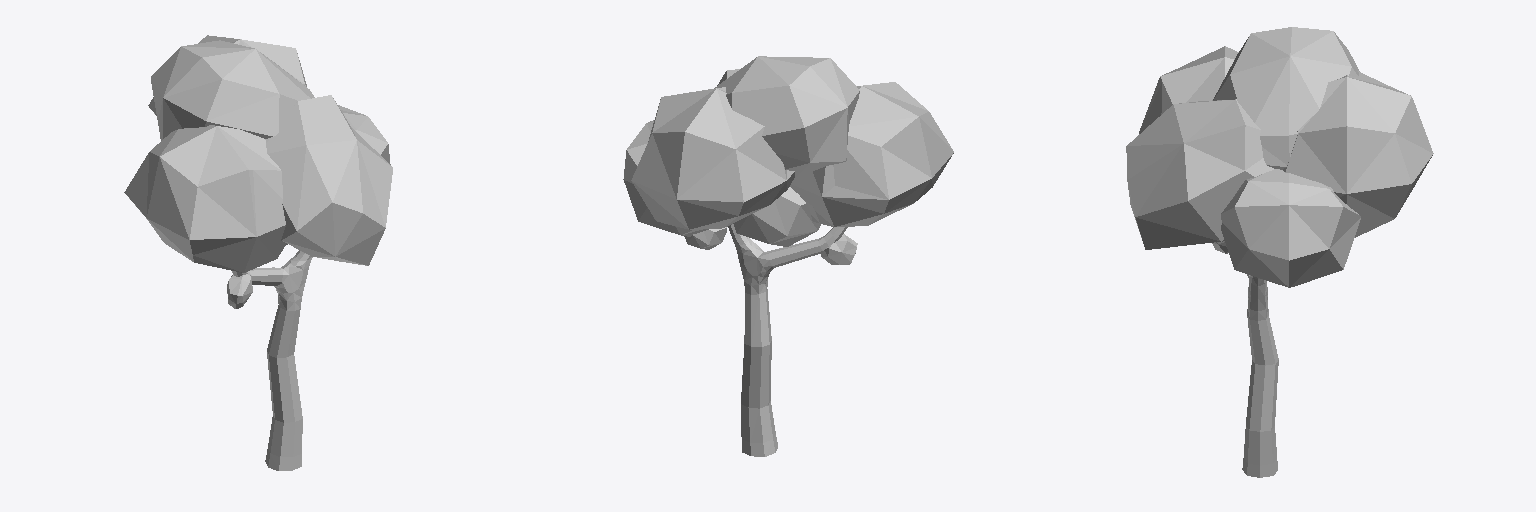
The model's file is tree.obj.
The picture shows the model from 3 angles: view 1: azimuth 30°, elevation 25°; view 2: azimuth 150°, elevation 25°; view 3: azimuth 270°, elevation 25°; orthographic projection.
Visible parts, largest first — view 1: Cube, Cube.005, Cube.008, Vert, Cube.001, Cube.004, Cube.003; view 2: Cube.004, Cube, Cube.008, Vert, Cube.001, Cube.007, Cube.003, Cube.006; view 3: Cube.005, Cube.004, Cube, Cube.008, Vert, Cube.001.
Part boxes in pixels (x1,y1,x2,y2): Cube: (124,105,390,272); Cube.005: (265,95,392,265); Cube.008: (151,40,314,140); Vert: (232,250,312,470); Cube.001: (129,126,286,272); Cube.004: (148,35,306,115); Cube.003: (227,274,252,308); Cube.004: (631,87,794,229); Cube: (623,82,953,236); Cube.008: (714,56,859,177); Vert: (728,224,847,456); Cube.001: (790,85,938,226); Cube.007: (733,187,820,246); Cube.003: (821,234,857,264); Cube.006: (684,227,726,249); Cube.005: (1126,99,1273,249); Cube.004: (1283,71,1433,237); Cube: (1139,46,1360,287); Cube.008: (1213,27,1359,169); Vert: (1242,274,1278,477); Cube.001: (1140,46,1224,128).
Size of the model in its own units: 5.81 by 8.34 by 5.65.